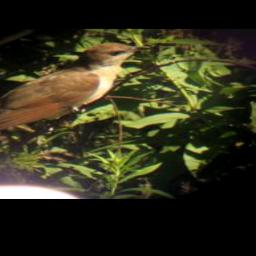Cuckoo: (0, 42, 153, 156)
